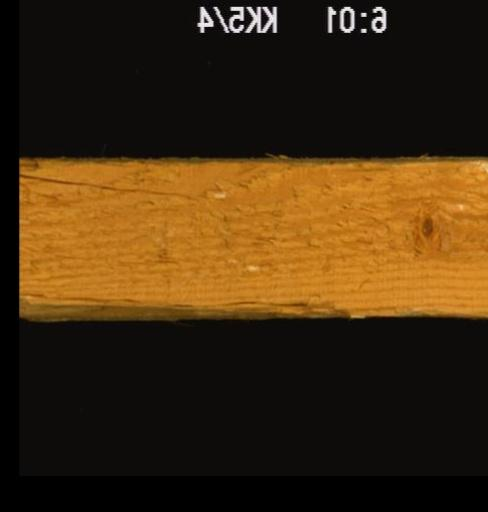small_knot: (411, 205, 440, 245)
split: (19, 170, 199, 202)
wave: (19, 287, 355, 316)
